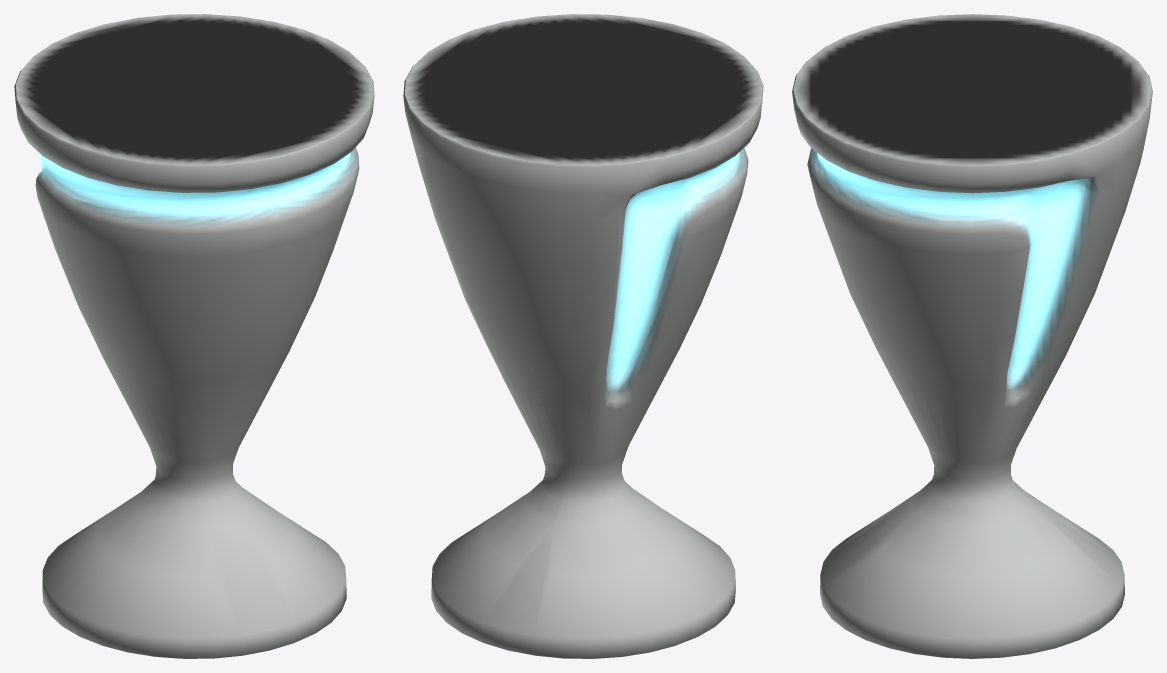
Rendered from bar_table_4_b.glb.
3 views of the same model, side by side, from view 1: azimuth 30°, elevation 25°; view 2: azimuth 150°, elevation 25°; view 3: azimuth 270°, elevation 25° (orthographic).
Parts seen in each view (by area): view 1: bar_table_4; view 2: bar_table_4; view 3: bar_table_4.
Part boxes in pixels (bbox=[...]): bar_table_4: bbox=[14, 14, 374, 658]; bar_table_4: bbox=[403, 14, 763, 658]; bar_table_4: bbox=[792, 14, 1152, 658].
Bounding box in the file's own units: 0.7105 × 1.1 × 0.7105.
1 material, 1 textured.
